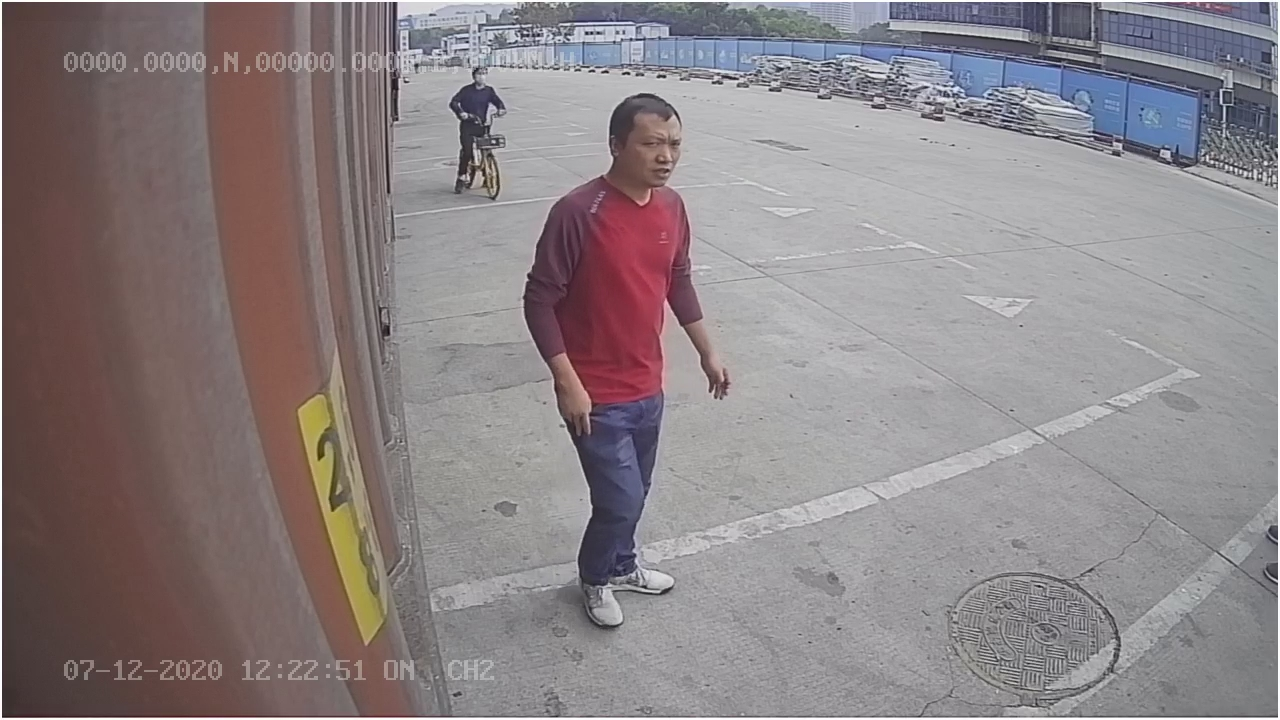person: (514, 88, 740, 632)
